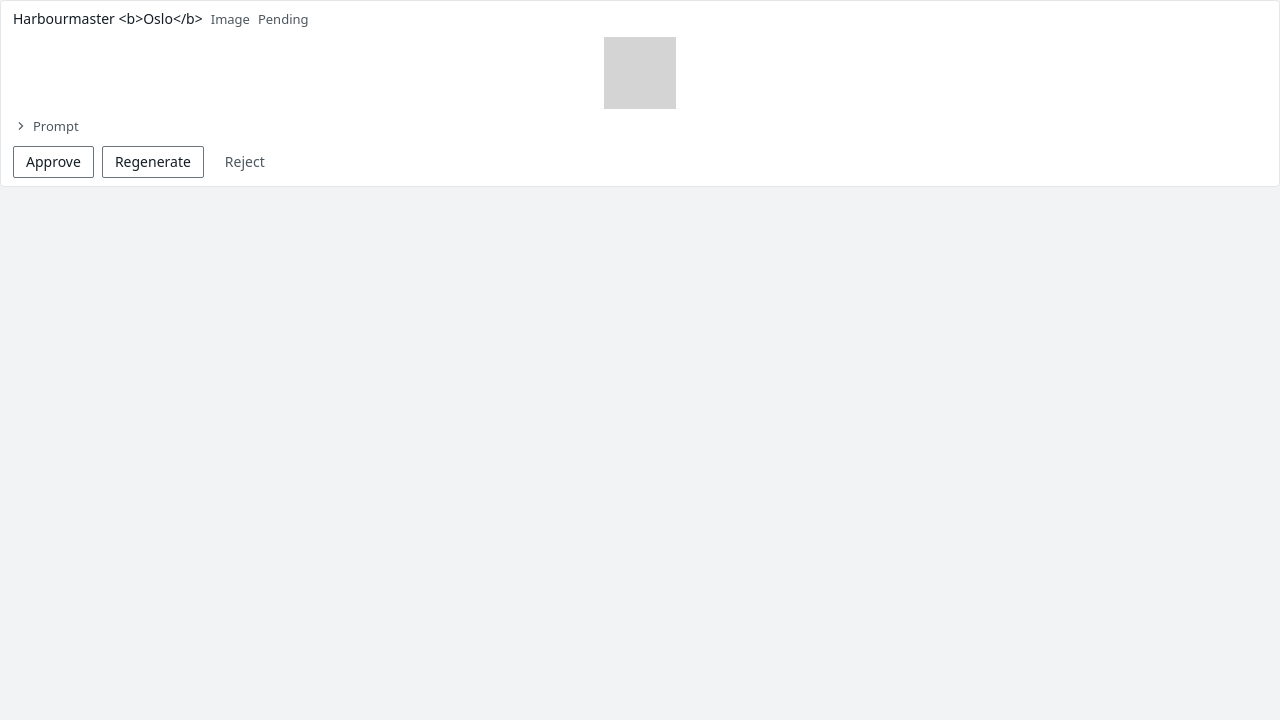
Test: ImageCard › runs an action taken in the lightbox after closing it, and Regenerate there opens the change box
Click the button named "Harbourmaster <b>Oslo</b>" at (640, 73), box [1,37,1279,109]
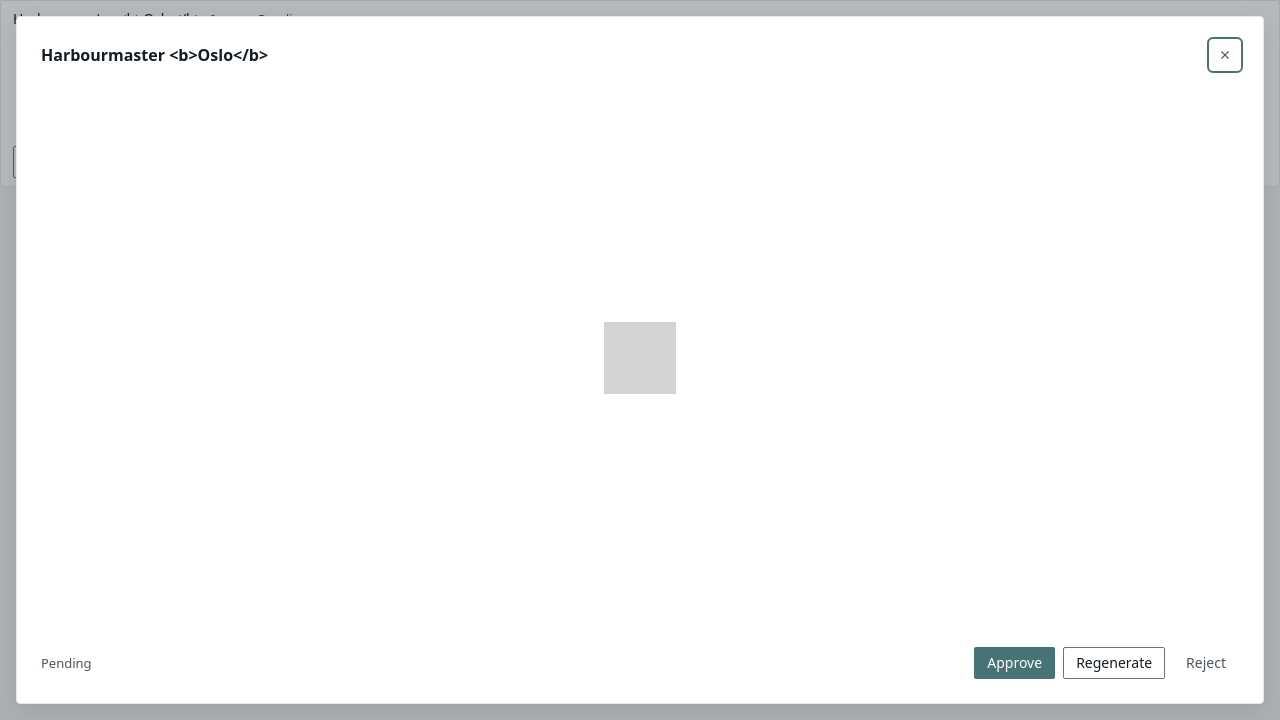
Click the button "Reject" at (1206, 663), box [1173,647,1239,679]
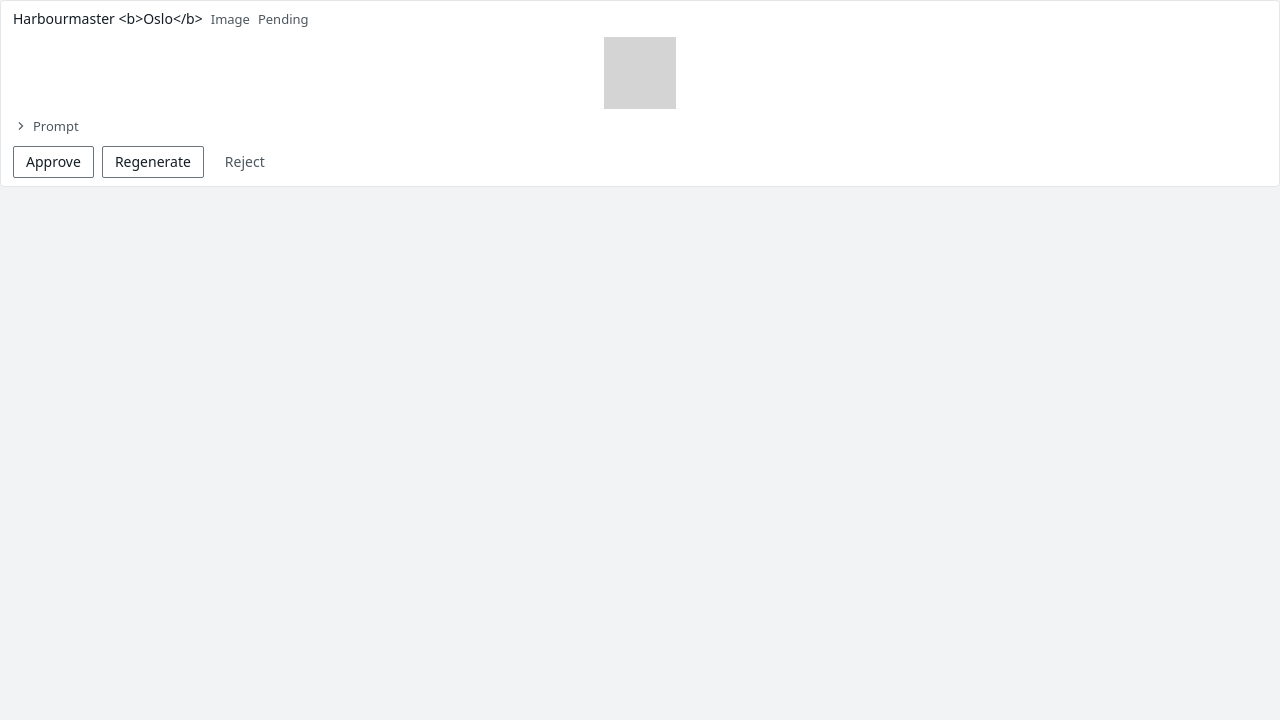
Result: the dialog is gone
Click the button named "Harbourmaster <b>Oslo</b>" at (640, 73), box [1,37,1279,109]
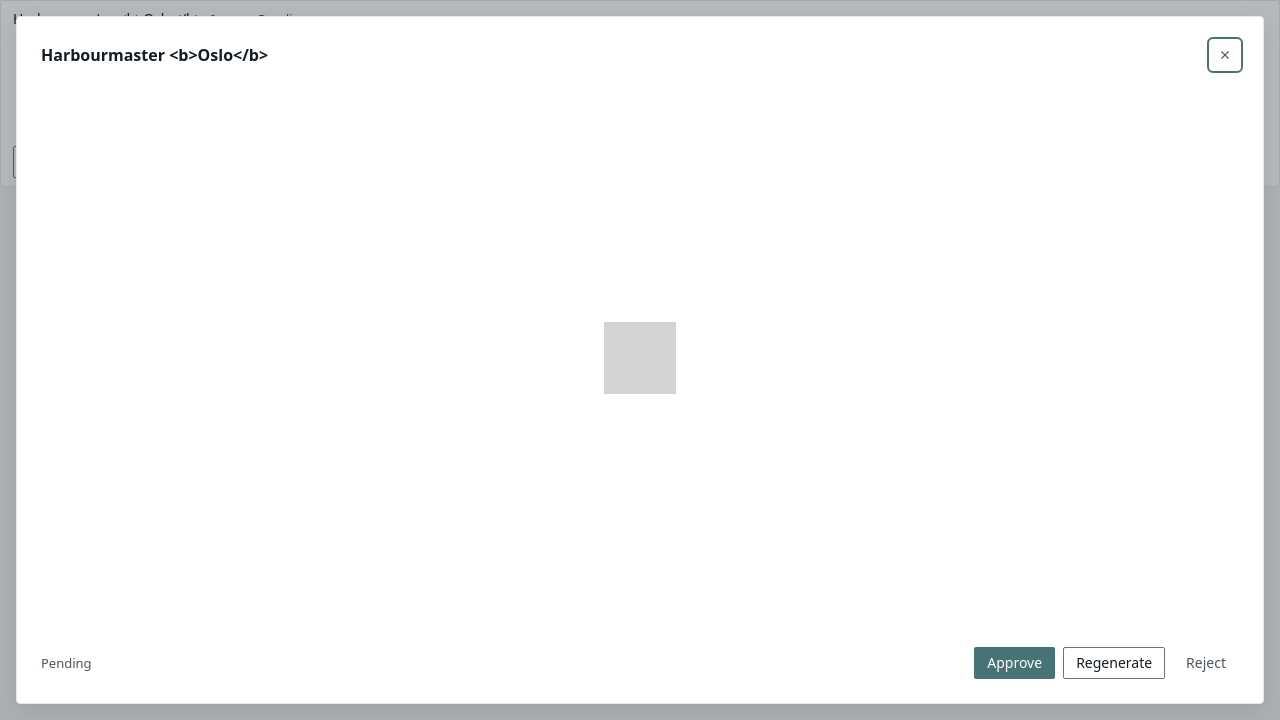
Click the button "Regenerate" at (1114, 663), box [1063,647,1165,679]
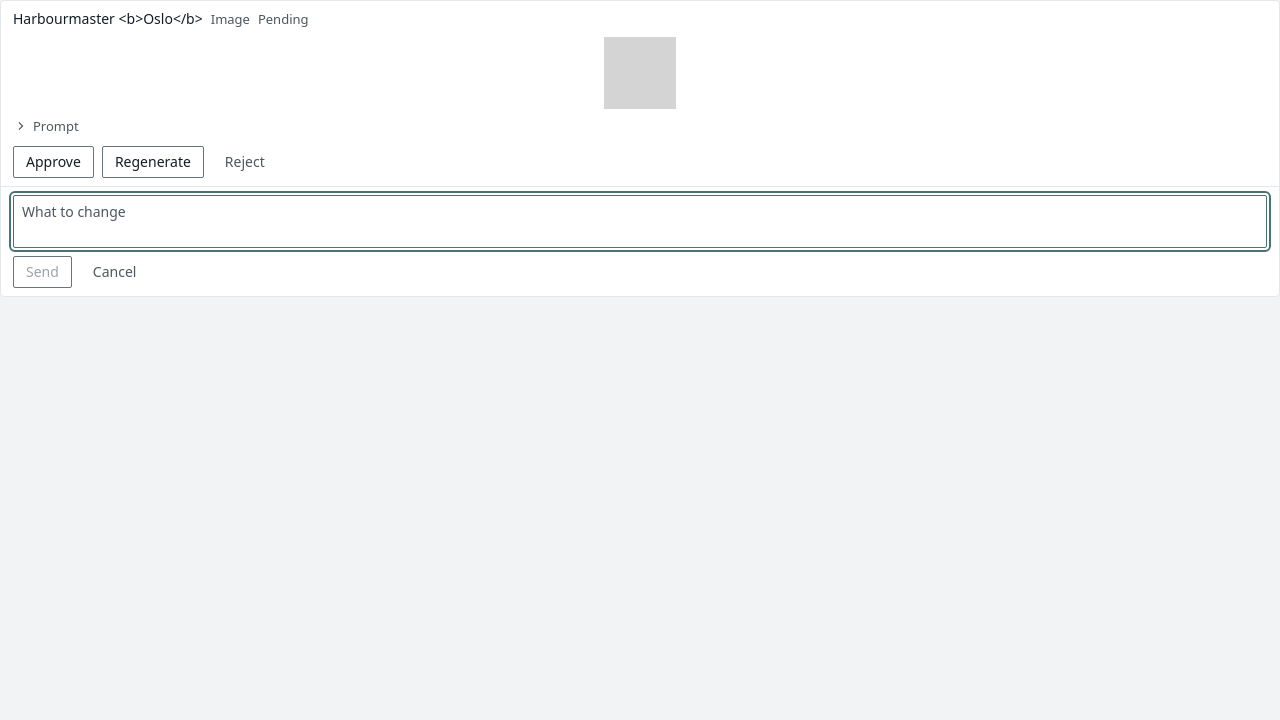
Result: the dialog is gone
